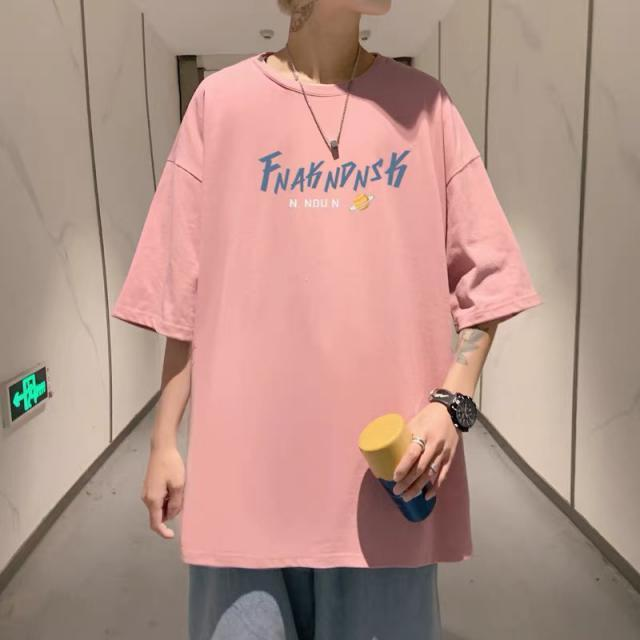Shirt: (105, 43, 548, 573)
